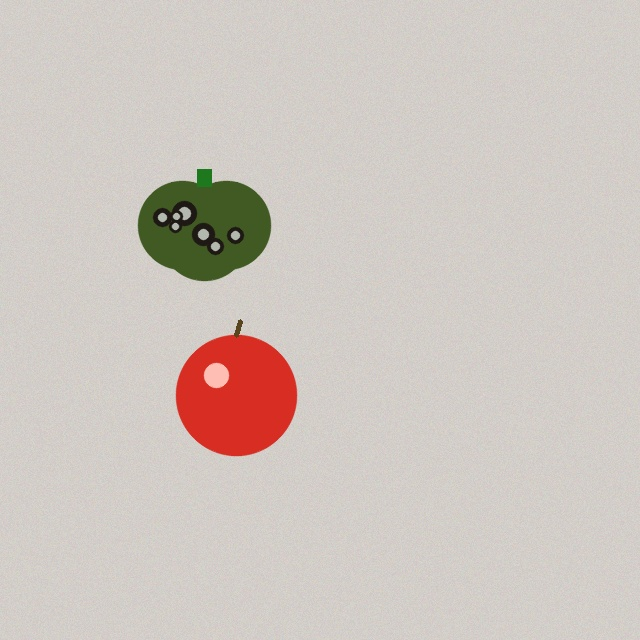Fresh apple: (176, 321, 296, 455)
Rotten bell pepper: (138, 169, 270, 280)
